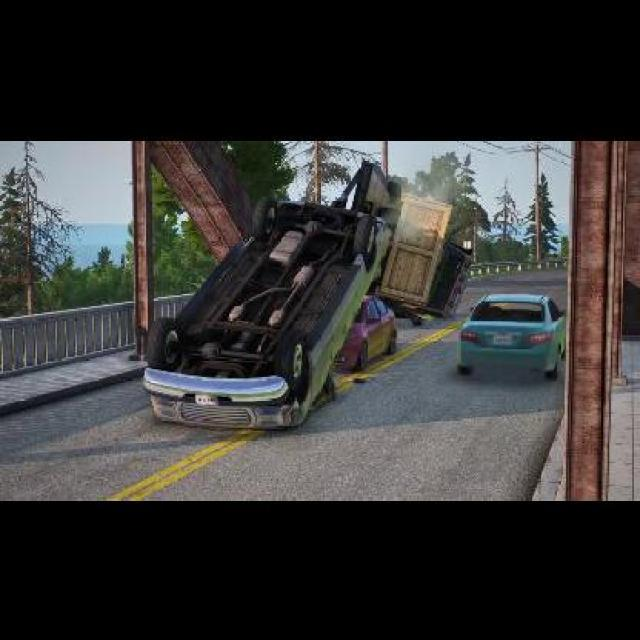accident: (136, 190, 384, 428)
